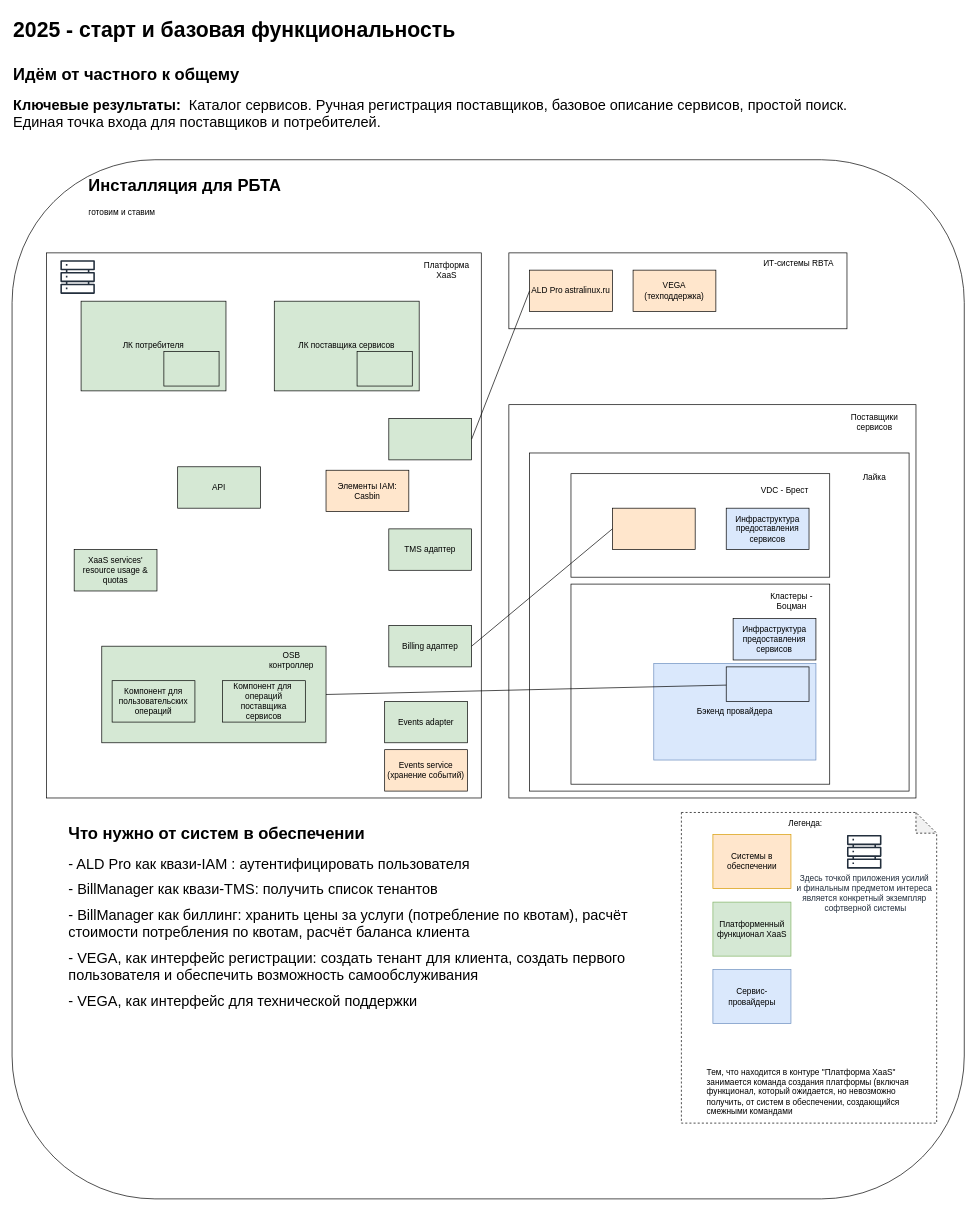
The diagram is 976 pixels wide and 1211 high, and some of its shapes have lost their labels. Each missing label, with the centre of its shape:
"Billmanager Лайка" goes at [653,528].
"IAM адаптер" goes at [430,439].
"интерфейс публикации" goes at [384,368].
"маркетплейс" goes at [191,368].
"Сервисные брокеры" goes at [767,683].
